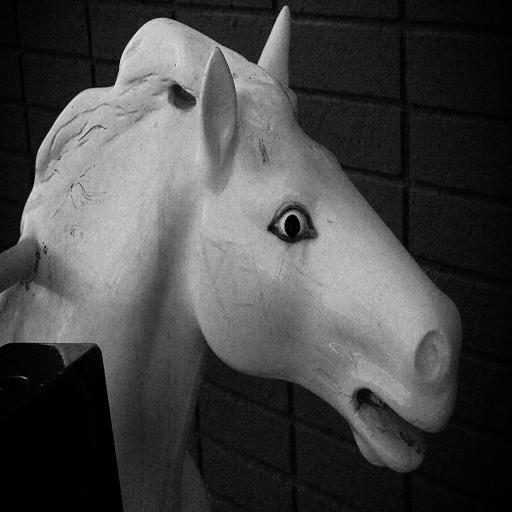horse: (0, 5, 463, 508)
